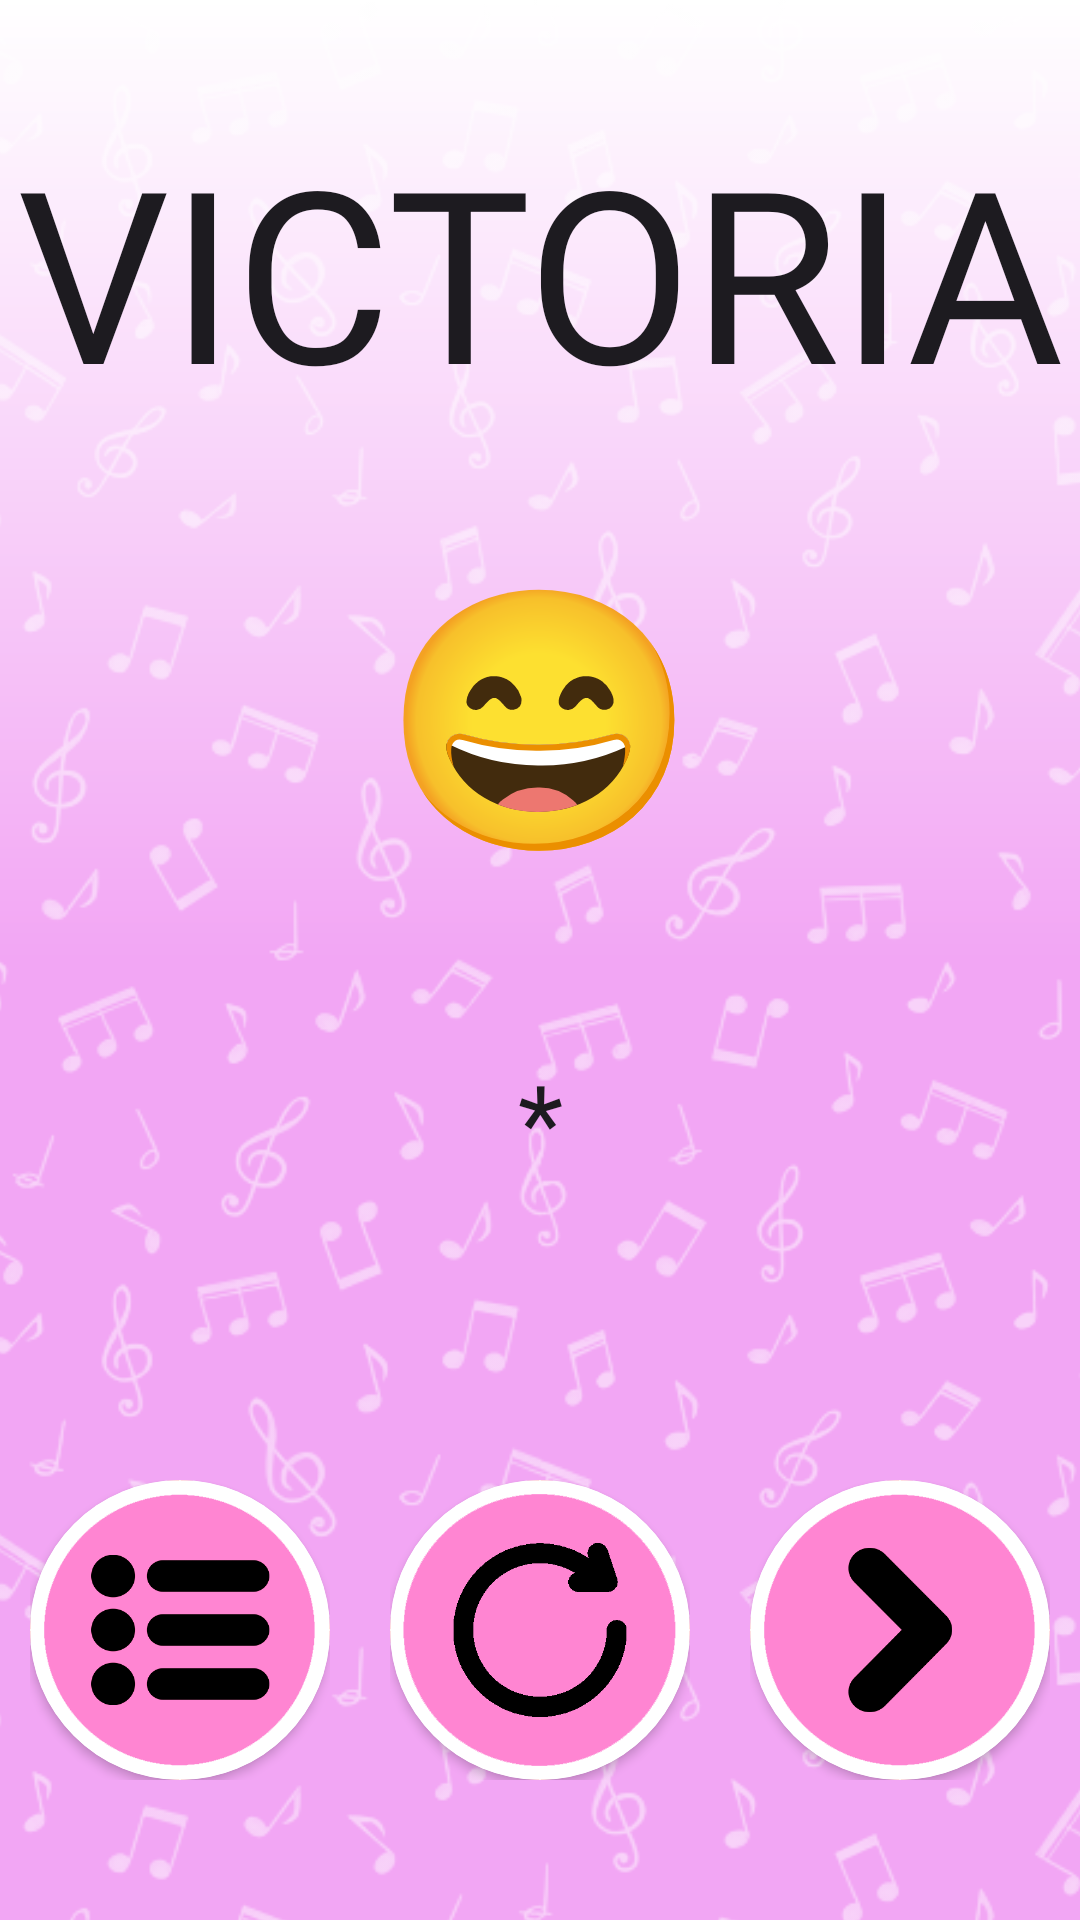

Point at icon controls on the screen. Image size 1080*1920, points as (x=x, y=y).
circulo menu: (x=180, y=1630)
circulo reiniciar: (x=540, y=1630)
circulo siguiente: (x=900, y=1630)
